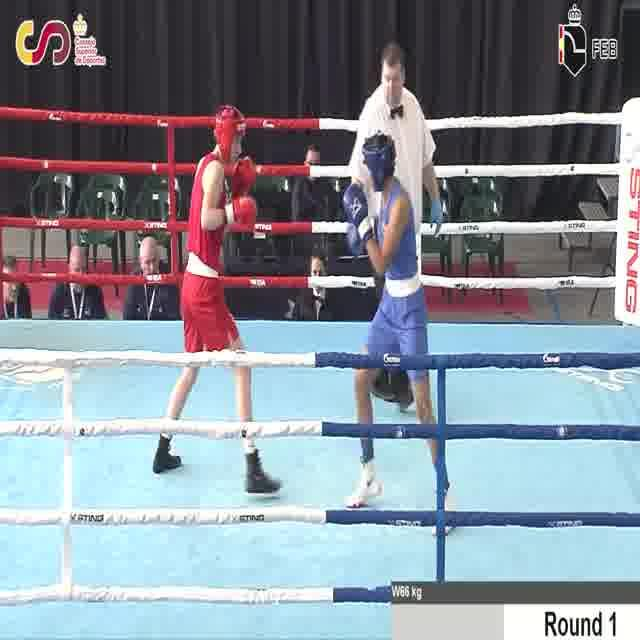blue-player: (339, 129, 461, 540)
red-player: (150, 104, 283, 497)
referee: (350, 40, 450, 412)
